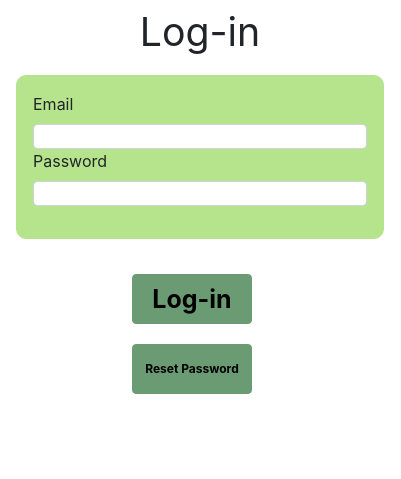
Test: Alert message tests › password field empty
In the field with test id "email-input": (200, 137) [33, 124, 367, 149], type "test@gmail.com"
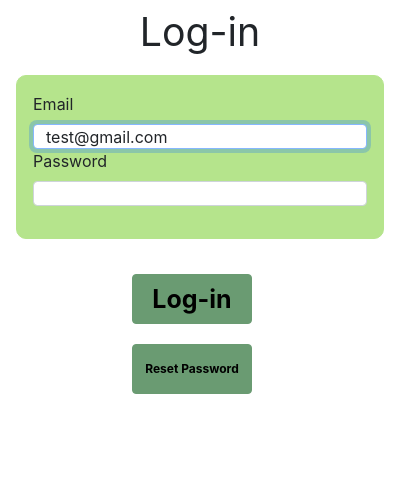
Click the button "Log-in": (192, 299) [132, 274, 252, 324]
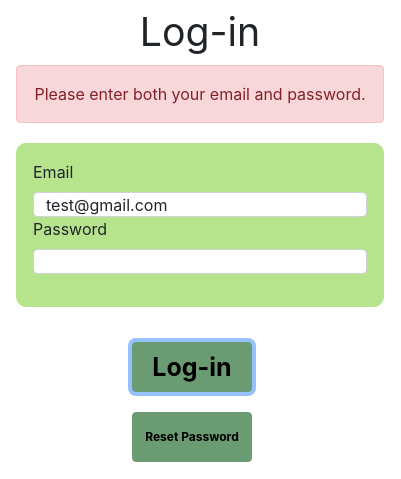
Now the text "Please enter both your email and password." is shown, box [16, 65, 384, 123]
